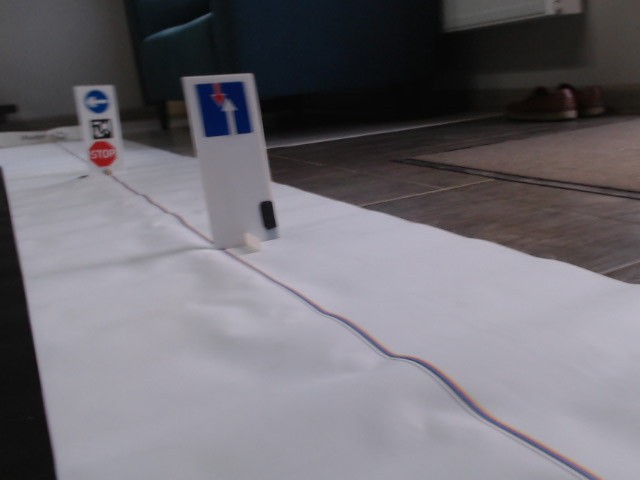Stop: (88, 140, 117, 167)
priority_movement: (193, 81, 257, 137)
